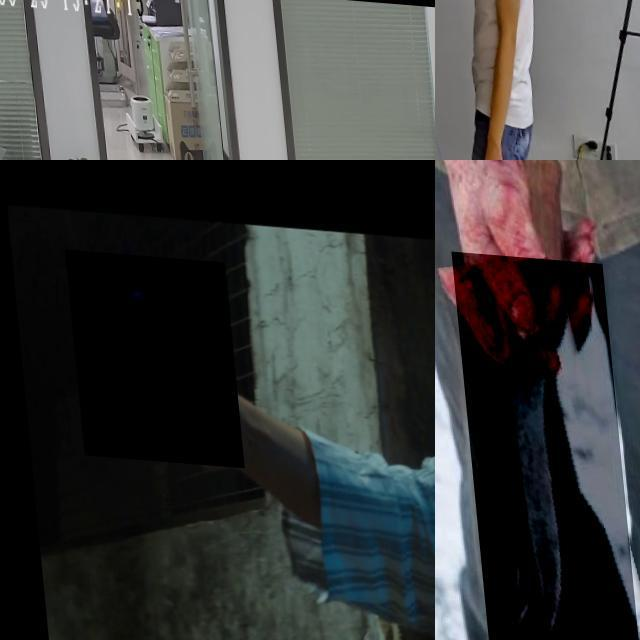-: (447, 249, 628, 640)
gun-knife-thesis - v11 Yolov5 augmented: (62, 248, 238, 464), (435, 0, 459, 47)
